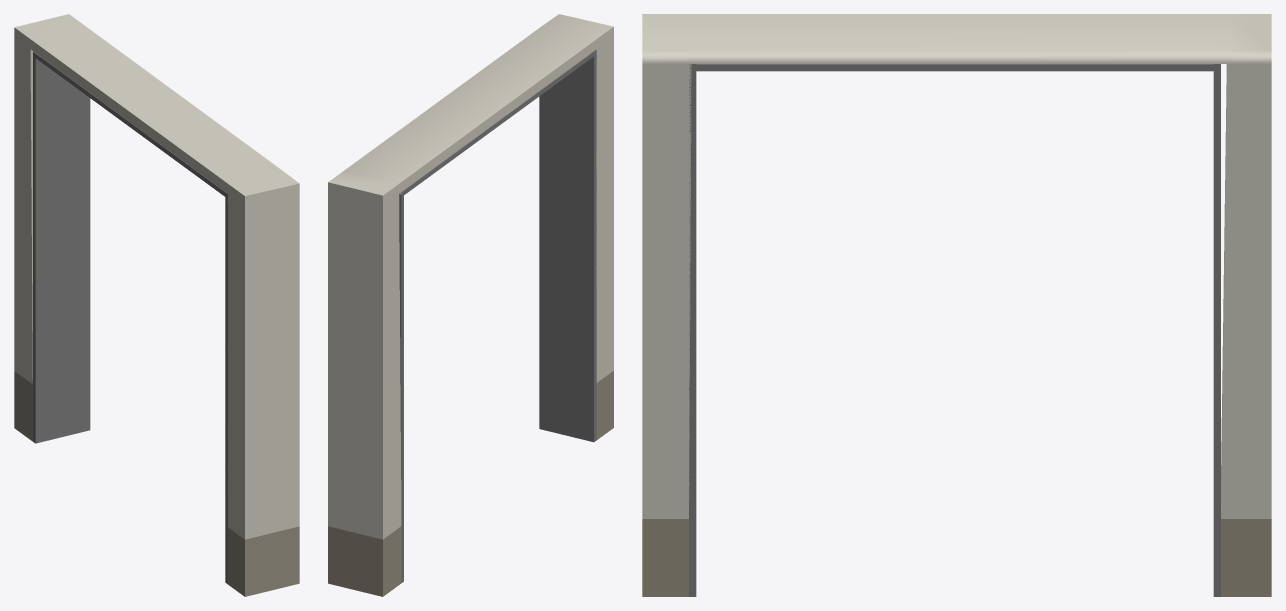
The model's file is Door_Frame.fbx.
The picture shows the model from 3 angles, left to right: view 1: azimuth 30°, elevation 25°; view 2: azimuth 150°, elevation 25°; view 3: azimuth 270°, elevation 25°; orthographic projection. The views are drawn at different scales.
Visible parts, largest first — view 1: Door_Frame; view 2: Door_Frame; view 3: Door_Frame.
Boxes of the visible parts, <box> form: Door_Frame: <box>14,14,299,596</box>; Door_Frame: <box>328,14,613,596</box>; Door_Frame: <box>642,14,1271,596</box>.
Size of the model in its own units: 30.48 by 213 by 223.
